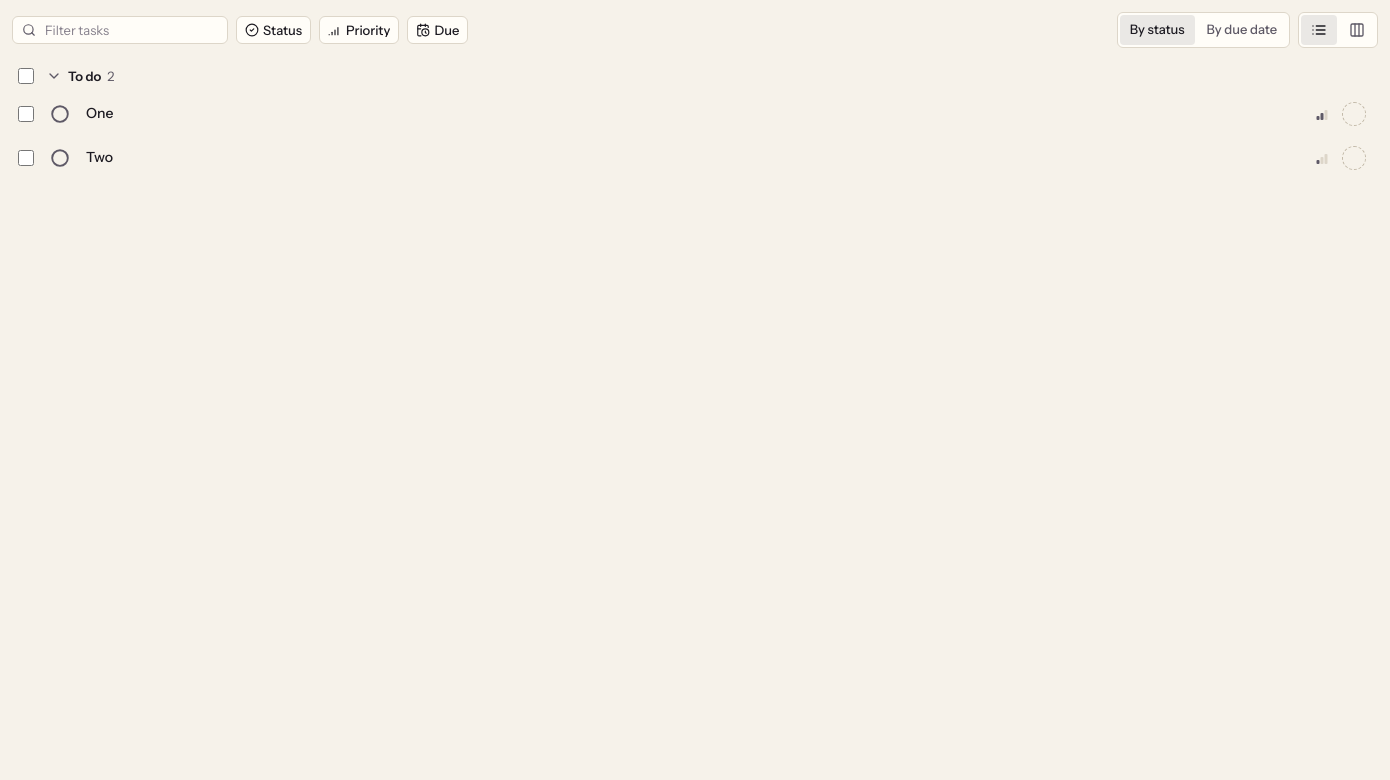
Scenario: BulkActionBar › reports skipped tasks with their reason
The image size is (1390, 780).
What coordinates should you click on to do the following:
click the checkbox named "Select “One”"
I would click on:
 (26, 114)
Its box is x1=18 y1=106 x2=34 y2=122.
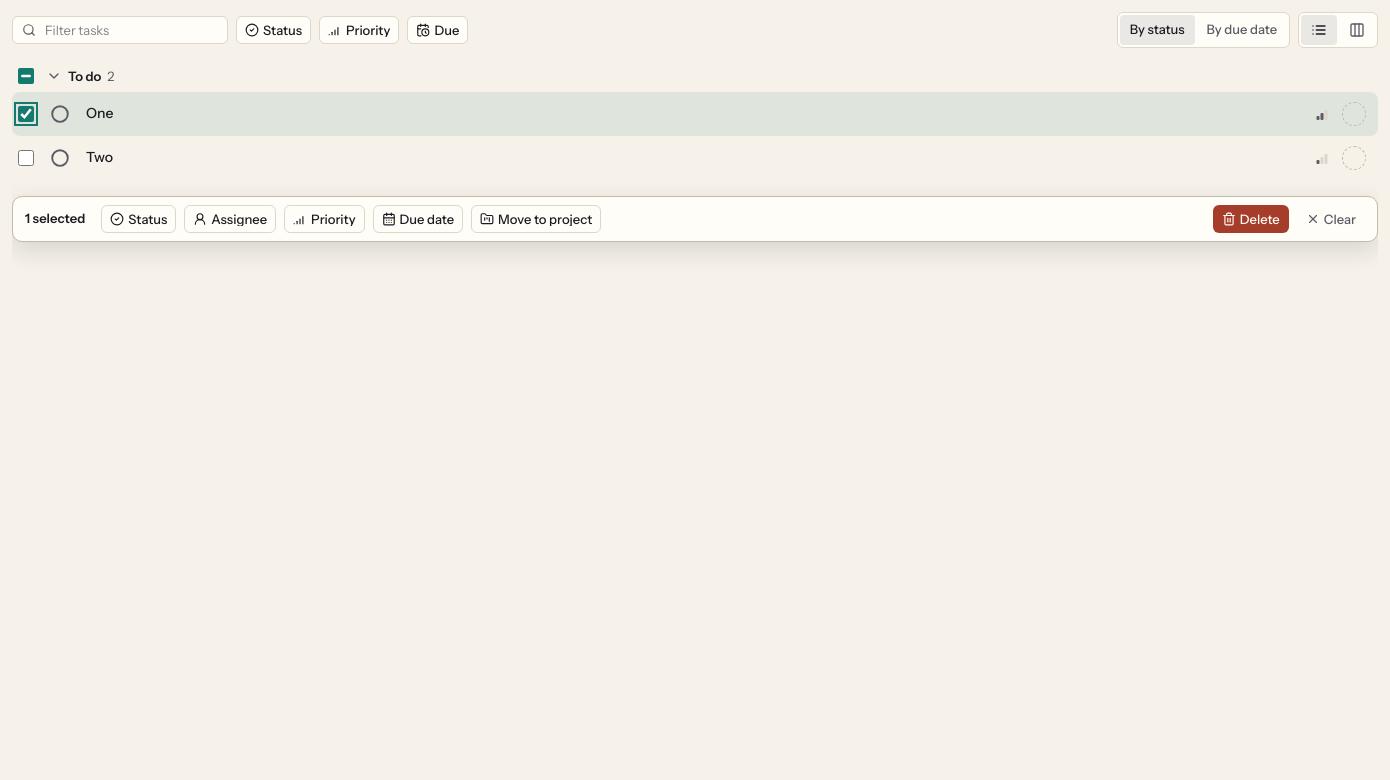
What coordinates should you click on to do the following:
click the checkbox named "Select “Two”"
I would click on:
 (26, 158)
Its box is x1=18 y1=150 x2=34 y2=166.
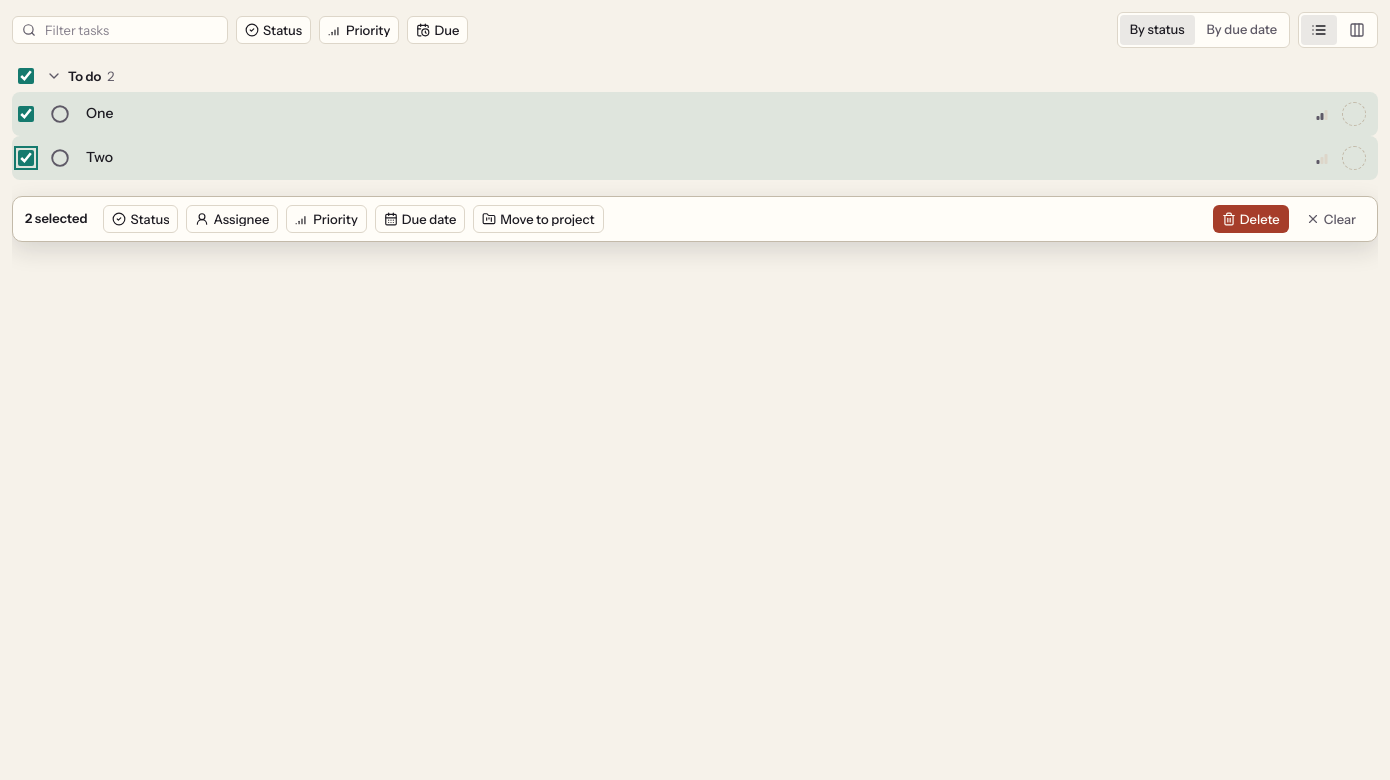
What coordinates should you click on to do the following:
click the button "Status" next to "selected"
I would click on:
 (141, 219)
Its box is x1=104 y1=205 x2=178 y2=233.
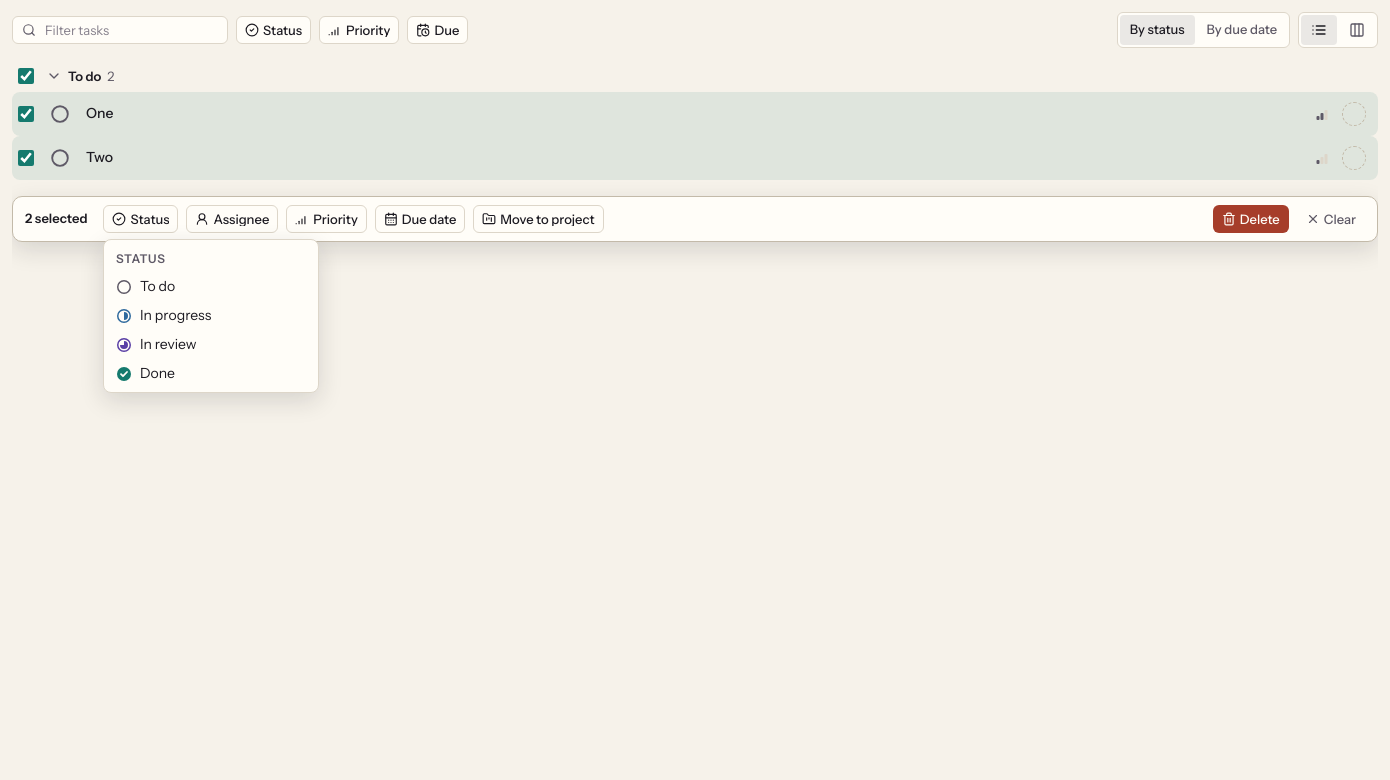
What coordinates should you click on to do the following:
click the menu item "Done"
I would click on:
 (145, 373)
Its box is x1=116 y1=364 x2=175 y2=382.
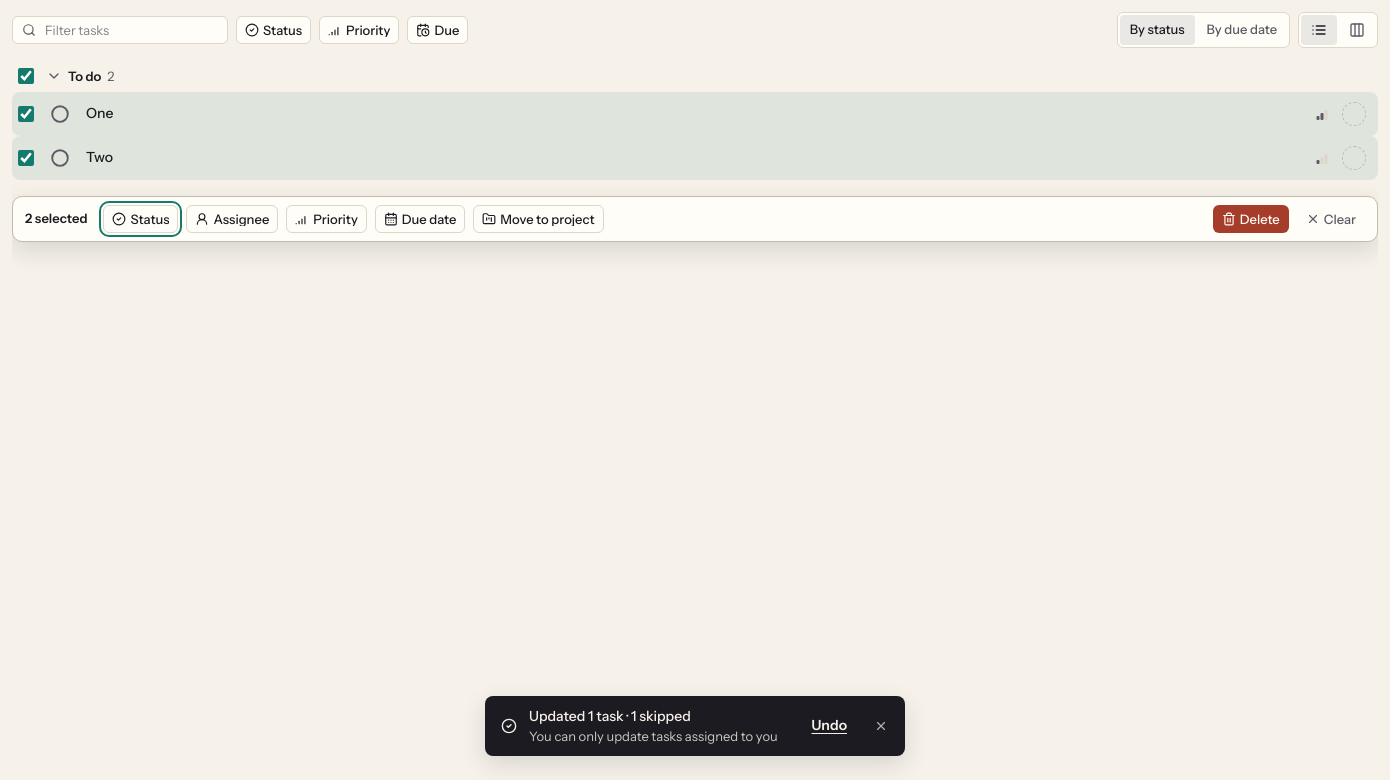
Result: the text "Updated 1 task · 1 skipped" is shown at x1=529 y1=706 x2=691 y2=724
Result: the text "You can only update tasks assigned to you" is shown at x1=529 y1=726 x2=792 y2=746
